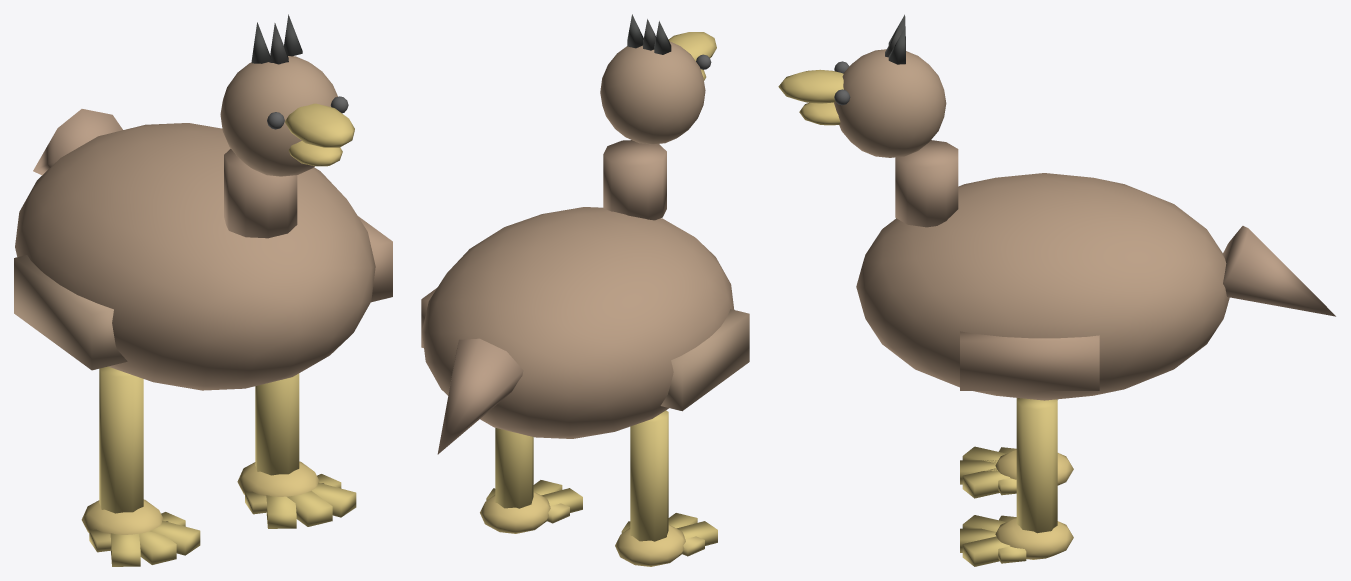
File: animal_duck_brown.glb
The picture shows the model from 3 angles, left to right: view 1: azimuth 30°, elevation 25°; view 2: azimuth 150°, elevation 25°; view 3: azimuth 270°, elevation 25°; orthographic projection. The views are drawn at different scales.
Visible parts, largest first — view 1: body, head, foot_l, foot_r, neck; view 2: body, head, foot_l, foot_r, neck; view 3: body, head, foot_r, neck, foot_l.
Part boxes in pixels (<box>): body: <box>14,109,392,390</box>; head: <box>220,14,354,176</box>; foot_l: <box>81,366,200,566</box>; foot_r: <box>237,373,356,528</box>; neck: <box>224,148,297,238</box>; body: <box>421,207,749,454</box>; head: <box>600,14,716,144</box>; foot_l: <box>615,410,717,566</box>; foot_r: <box>480,428,582,533</box>; neck: <box>603,140,666,220</box>; body: <box>856,173,1335,400</box>; head: <box>778,14,946,157</box>; foot_r: <box>960,398,1073,566</box>; neck: <box>895,140,958,227</box>; foot_l: <box>960,398,1073,498</box>.
Size of the model in its own units: 0.425 by 0.7489 by 0.7592.
